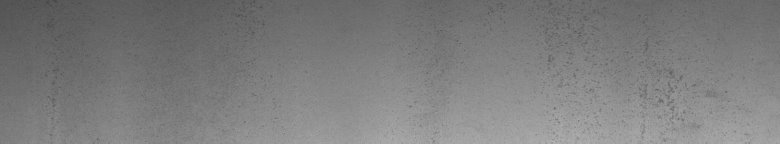ib: (546, 8, 717, 134)
